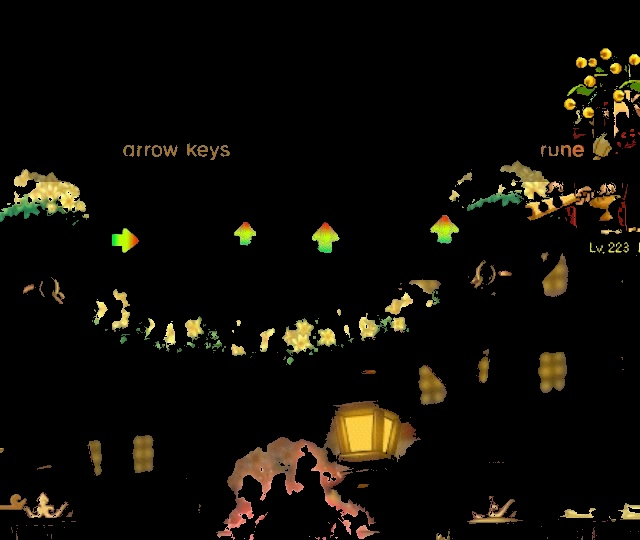right: (106, 224, 151, 264)
up: (304, 214, 343, 260), (424, 209, 462, 251), (229, 216, 263, 253)
